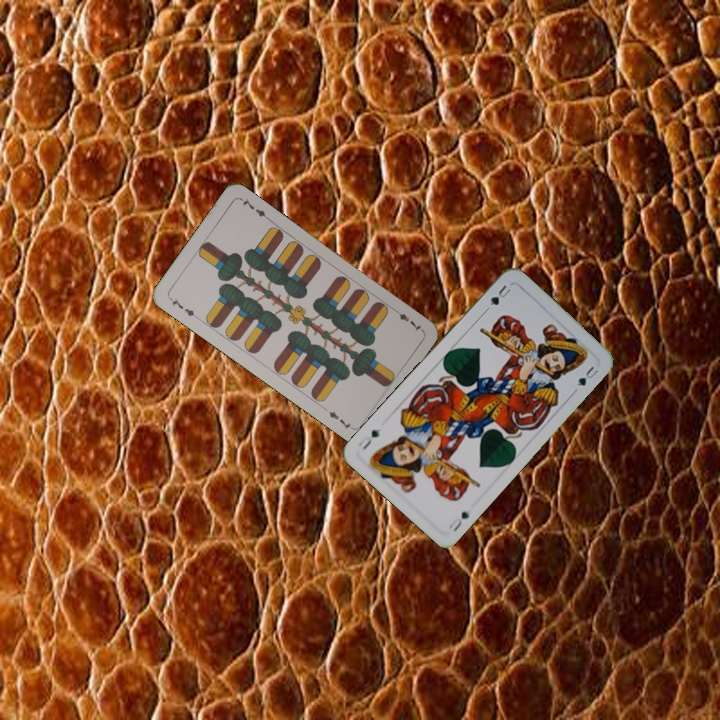E7: (165, 293, 201, 322), (389, 305, 424, 334)
GU: (486, 281, 513, 310), (445, 507, 472, 534)
